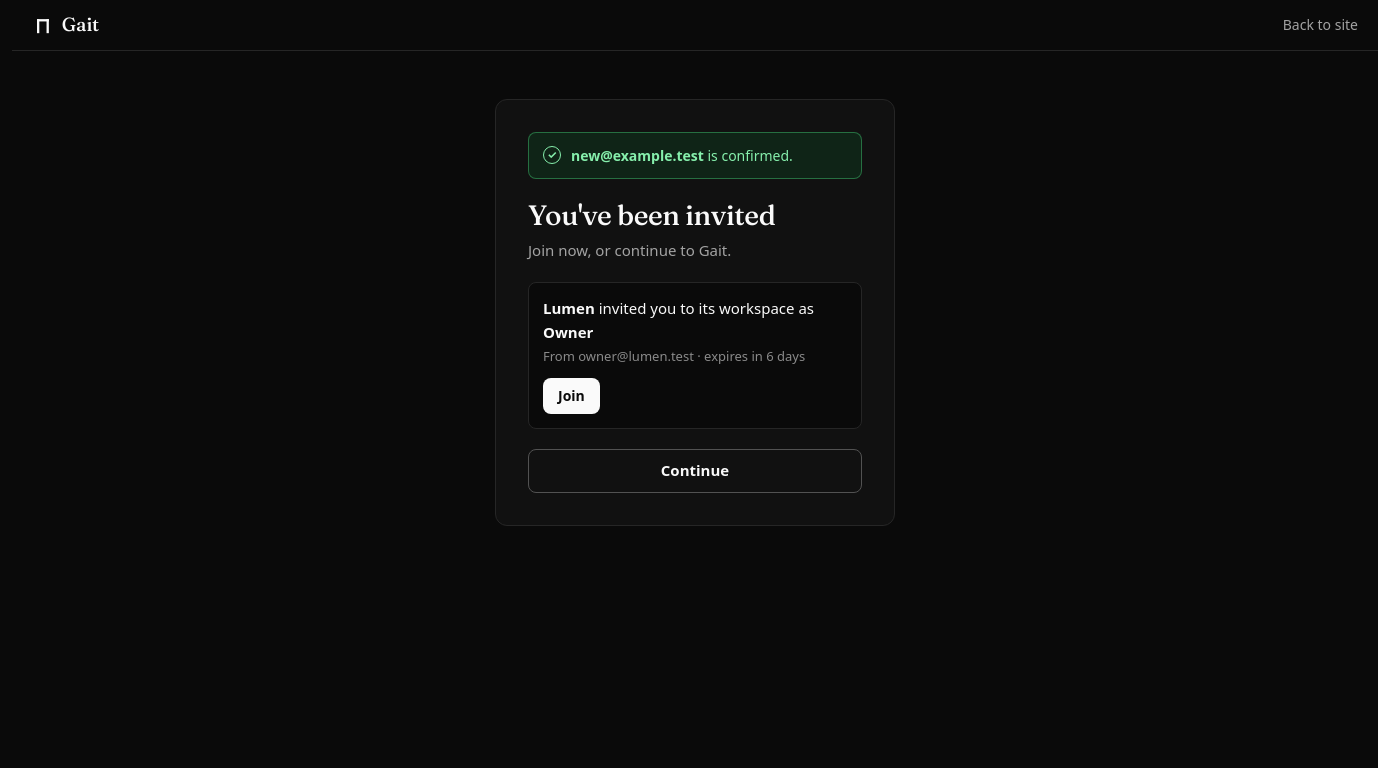
it: INV-UX: invites on the confirmed page › signed in after confirming: pending invites are offered, and Join lands in the workspace with a welcome
The image size is (1378, 768).
Expected: the heading "You've been invited" is shown, [528,198,775,232]
Expected: the text "Join now, or continue to Gait." is shown, [528,240,731,260]
Click the button named "Join Lumen": [571, 396] box [543,378,600,414]
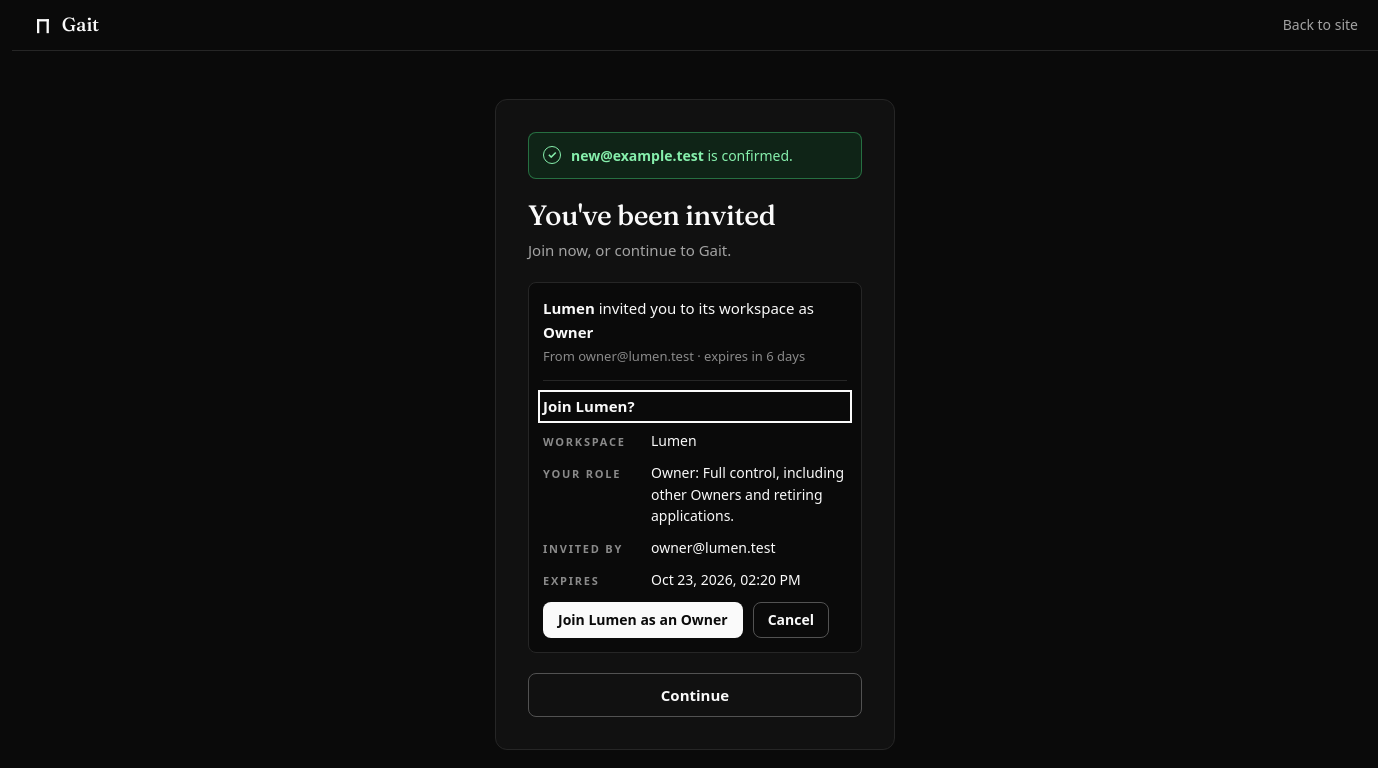
Expected: the element "Join Lumen?" shows "Full control, including other Owners", [651,463,844,525]
Expected: the element "Join Lumen?" shows "owner@lumen.test", [651,538,776,557]
Click the button "Join Lumen as an Owner": [643, 620] box [543,602,743,638]
(page scrolled)
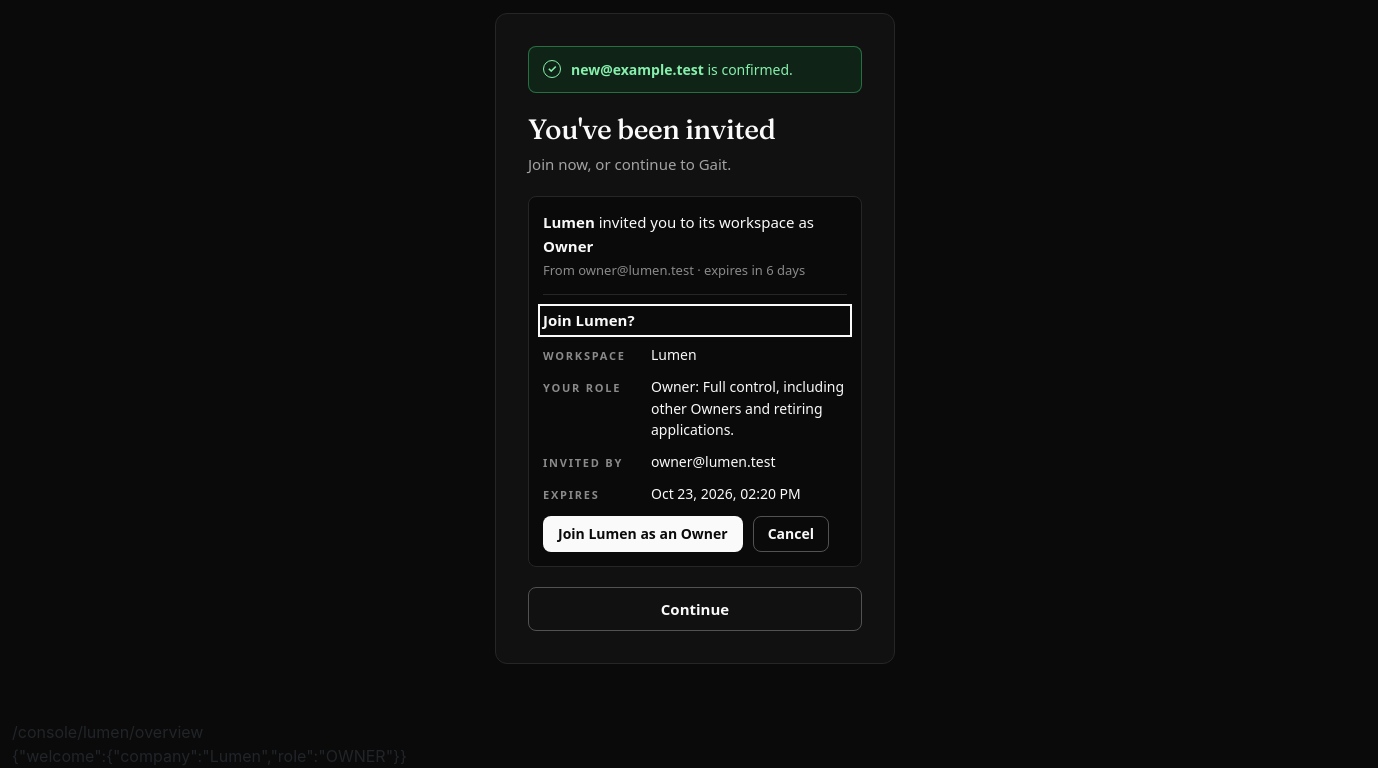
Expected: the text with test id "location" reads "/console/lumen/overview", [12,722,203,742]
Expected: the text with test id "state" reads "{\"welcome\":{\"company\":\"Lumen\",\"role\":\"OWNER\"}}", [12,746,407,766]
